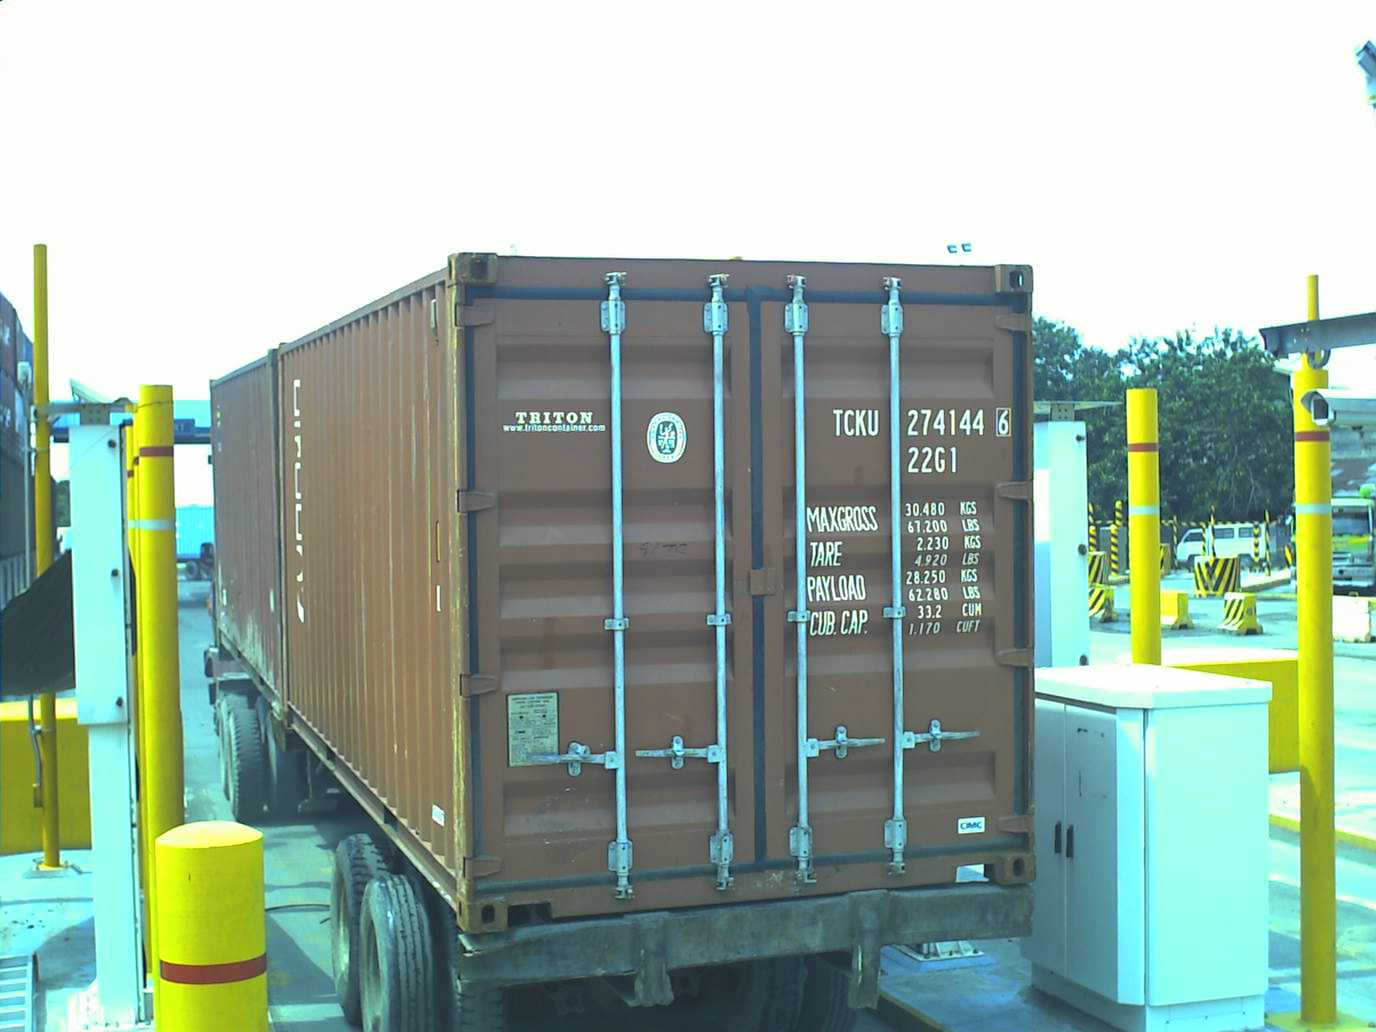container_door: (436, 225, 1040, 920)
